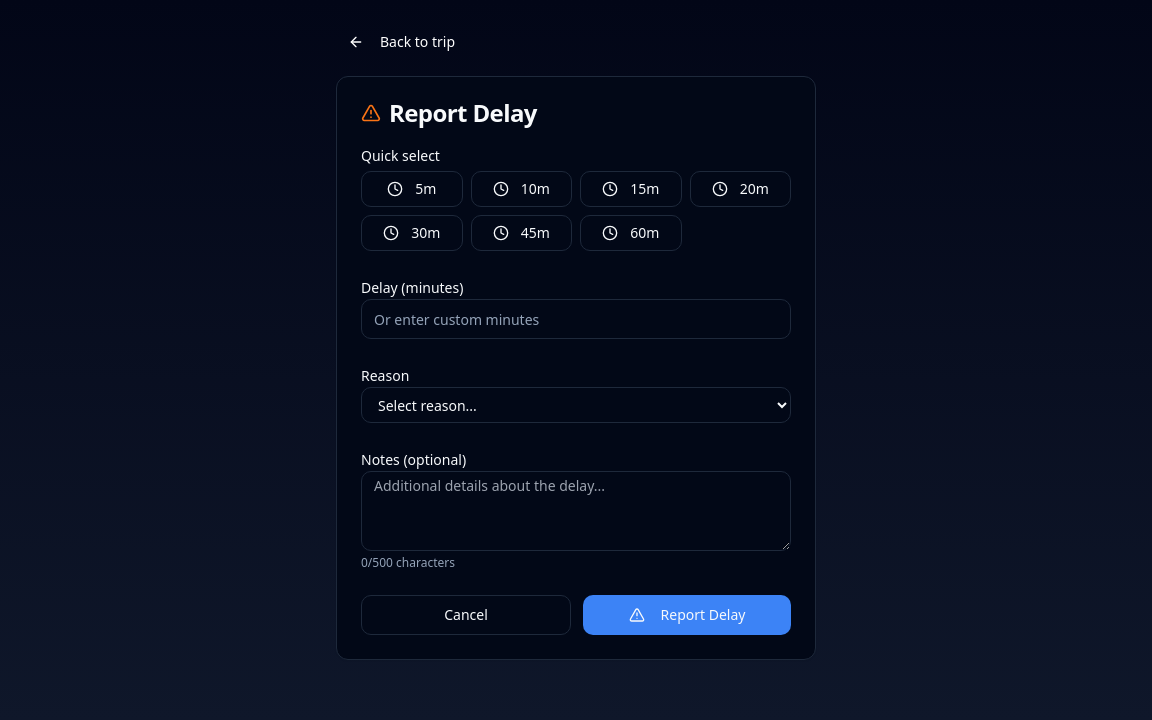
DriverDelayPage › validation › shows error for minutes below minimum
The width and height of the screenshot is (1152, 720).
In the number field labelled "Delay (minutes)": coordinates (576, 319) [361,299,791,339], type "0"
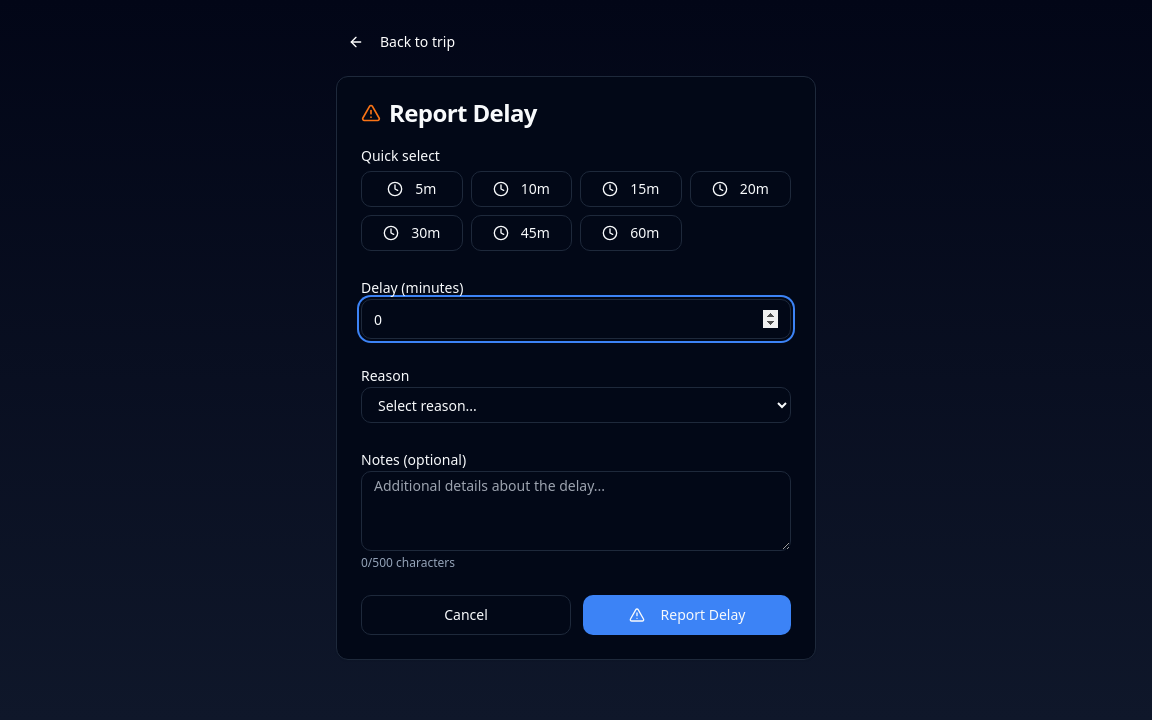
Select "Traffic" in the dropdown labelled "Reason": coordinates (576, 405) [361,387,791,423]
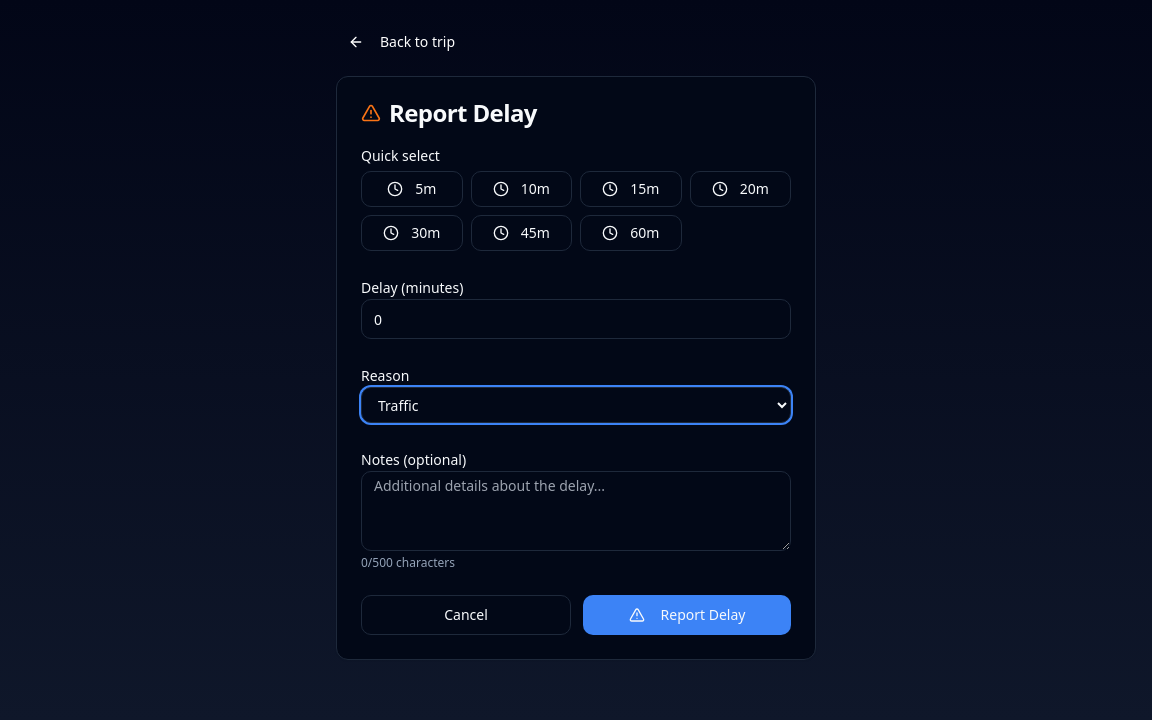
Click the button "Report Delay": coordinates (687, 615) [583,595,791,635]
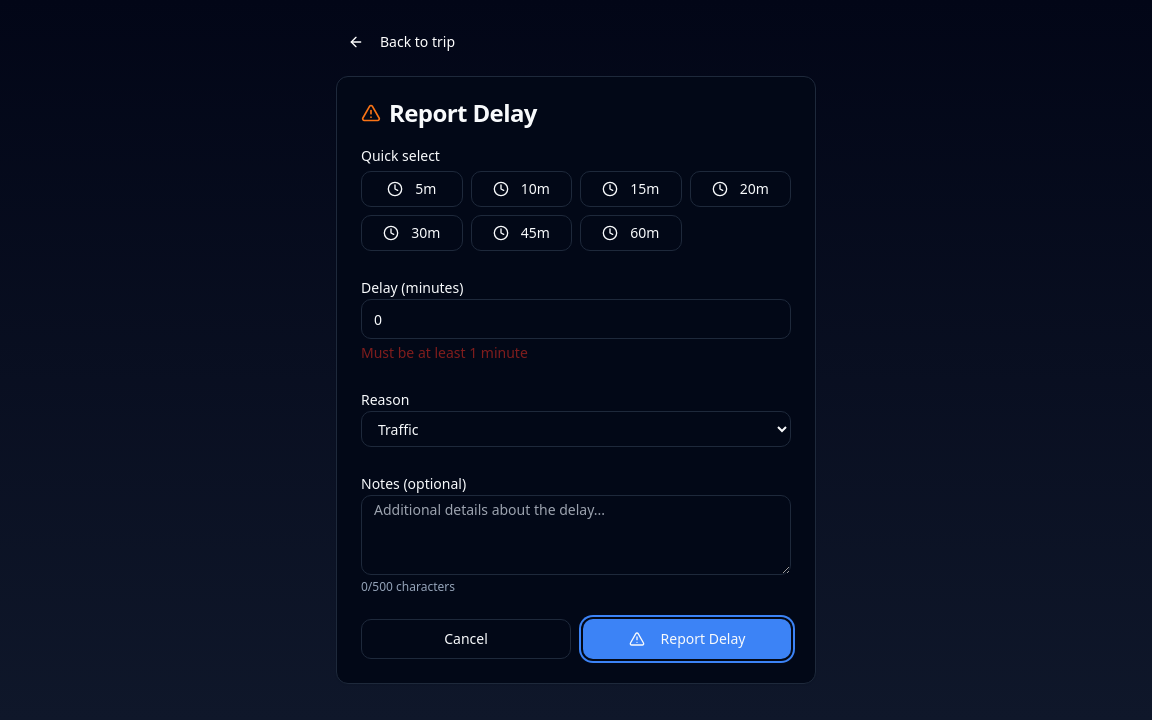
Now the text "Must be at least 1 minute" is shown, box [361,343,528,362]
